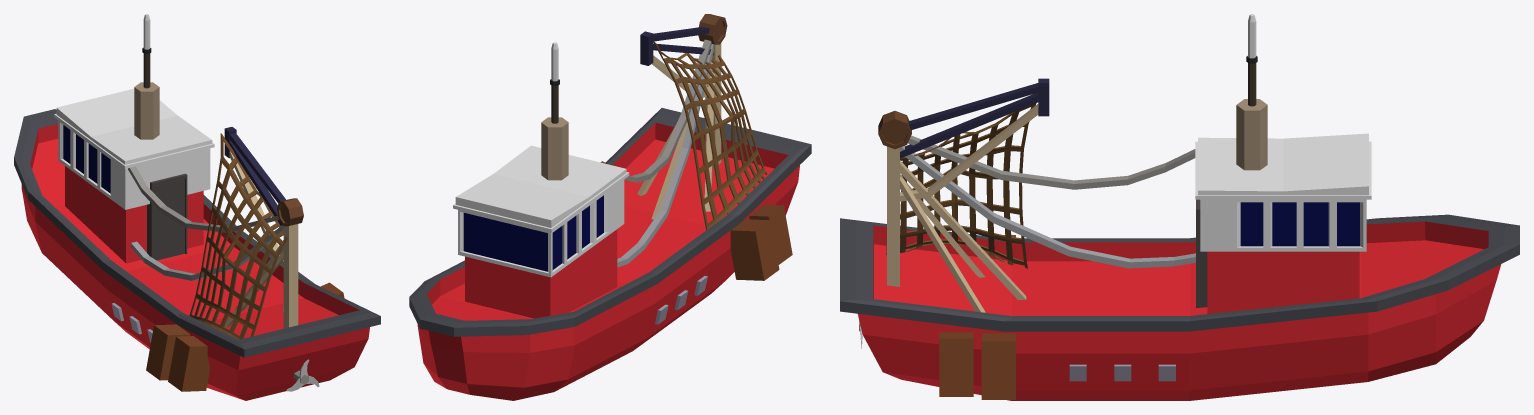
Rendered from boatttt.gltf.
3 views of the same model, side by side, from view 1: azimuth 30°, elevation 25°; view 2: azimuth 150°, elevation 25°; view 3: azimuth 270°, elevation 25° (orthographic). The views are drawn at different scales.
Visible parts, largest first — view 1: Cube, Cube.001, Plane, Cube.002, Cube.011, Cylinder.001, Cube.018, Cube.003, Cube.019, Cube.013, Cube.014, Cube.004 (+4 smaller); view 2: Cube, Cube.001, Cube.002, Plane, Cube.019, Cylinder.001, Cube.014, Cube.013, Cube.018, Cylinder, Cube.007, Cube.003 (+4 smaller); view 3: Cube, Cube.001, Cube.002, Plane, Cube.014, Cylinder.001, Cube.013, Cube.021, Cube.020, Cube.003, Cube.007, Cube.005 (+6 smaller).
Part boxes in pixels (x1,y1,x2,y2): Cube: (14,109,380,400); Cube.001: (58,120,210,263); Plane: (189,133,287,339); Cube.002: (54,88,214,168); Cube.011: (147,173,187,260); Cylinder.001: (134,14,159,139); Cube.018: (168,336,209,391); Cube.003: (283,224,298,328); Cube.019: (146,324,190,380); Cube.013: (128,166,278,232); Cube.014: (131,225,283,280); Cube.004: (229,133,285,203); Cube: (409,108,811,400); Cube.001: (458,180,624,318); Cube.002: (453,145,629,232); Plane: (653,41,767,229); Cube.019: (730,219,779,280); Cylinder.001: (541,42,568,180); Cube.014: (617,44,713,267); Cube.013: (624,39,711,182); Cube.018: (749,204,792,264); Cylinder: (698,14,727,44); Cube.007: (651,62,713,219); Cube.003: (705,43,721,167); Cube: (840,214,1519,400); Cube.001: (1200,199,1366,313); Cube.002: (1195,133,1371,199); Plane: (886,103,1036,268); Cube.014: (900,146,1195,268); Cylinder.001: (1236,14,1267,170); Cube.013: (908,135,1195,189); Cube.021: (981,333,1015,399); Cube.020: (939,332,973,396); Cube.003: (887,146,899,286); Cube.007: (900,160,1026,299); Cube.005: (900,93,1038,158).
Bounding box in the file's own units: 4.29 × 6.16 × 10.6.
